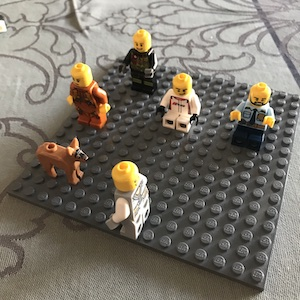Lego: (101, 158, 152, 247), (65, 63, 114, 133), (226, 82, 276, 150), (153, 71, 202, 129), (120, 27, 160, 93)
